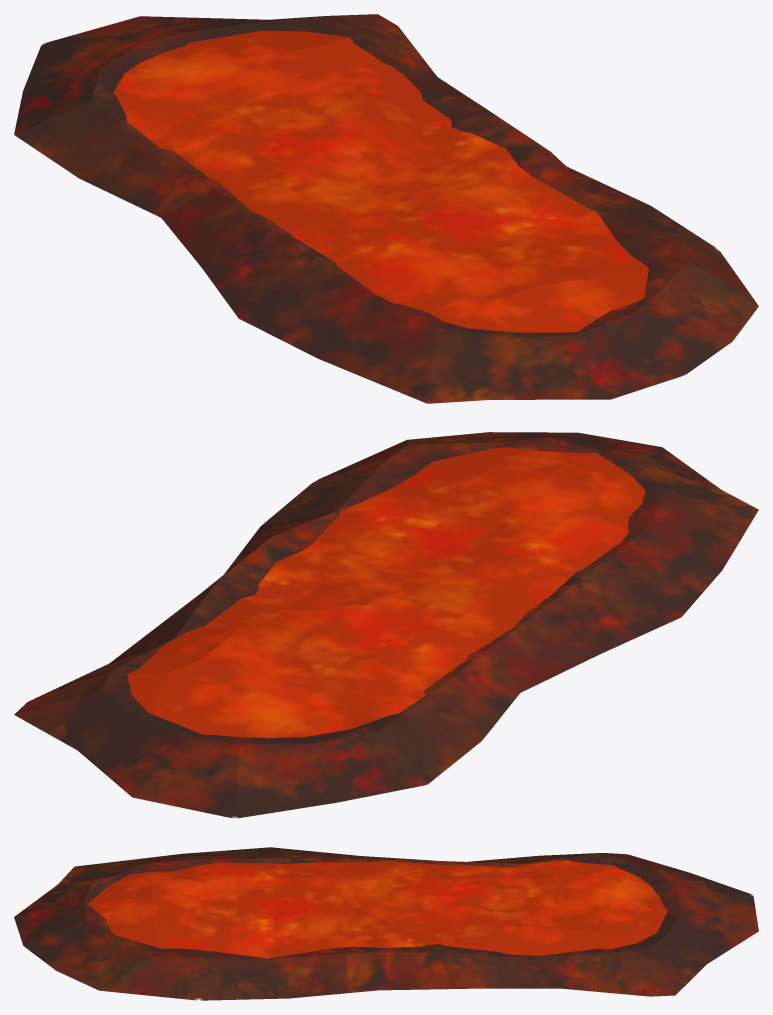
File: Charco_lava.obj
3 views of the same model, one above another, from view 1: azimuth 30°, elevation 25°; view 2: azimuth 150°, elevation 25°; view 3: azimuth 270°, elevation 25° (orthographic). The views are drawn at different scales.
Parts seen in each view (by area): view 1: Charco_lava.001; view 2: Charco_lava.001; view 3: Charco_lava.001.
Part boxes in pixels (box(x1,y1,x2,y2)): Charco_lava.001: box(14, 14, 758, 403); Charco_lava.001: box(14, 432, 758, 818); Charco_lava.001: box(14, 847, 758, 1000).
Bounding box in the file's own units: 10.96 × 0.9309 × 22.48.
Materials: 2 (2 with a texture image).
